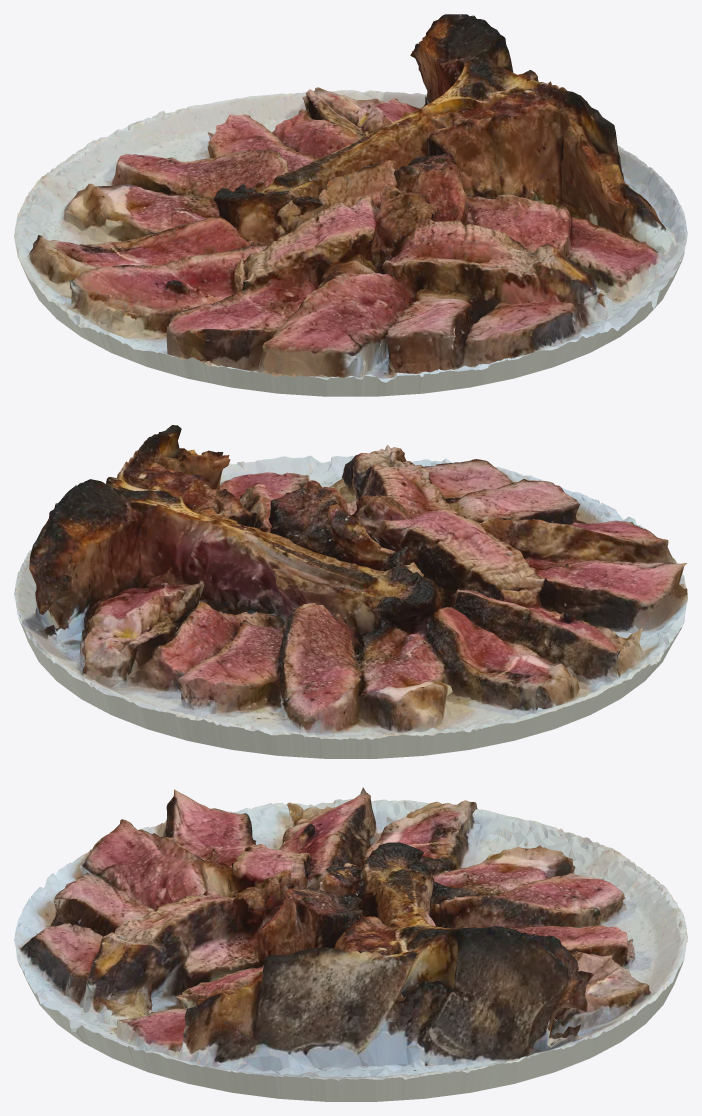
Rendered from wagyu-fiorentina.glb.
3 views of the same model, one above another, from view 1: azimuth 30°, elevation 25°; view 2: azimuth 150°, elevation 25°; view 3: azimuth 270°, elevation 25° (orthographic).
Visible parts, largest first — view 1: FlorenceSteak_Model_3, FlorenceSteak_Model_3.001; view 2: FlorenceSteak_Model_3, FlorenceSteak_Model_3.001; view 3: FlorenceSteak_Model_3, FlorenceSteak_Model_3.001.
Boxes of the visible parts, bbox=[...] form: FlorenceSteak_Model_3: bbox=[14, 14, 687, 382]; FlorenceSteak_Model_3.001: bbox=[18, 173, 681, 396]; FlorenceSteak_Model_3: bbox=[14, 425, 687, 739]; FlorenceSteak_Model_3.001: bbox=[19, 462, 685, 758]; FlorenceSteak_Model_3: bbox=[14, 787, 687, 1080]; FlorenceSteak_Model_3.001: bbox=[18, 823, 687, 1101].
Size of the model in its own units: 0.4231 by 0.1141 by 0.4243.
Materials: 2 (1 with a texture image).
